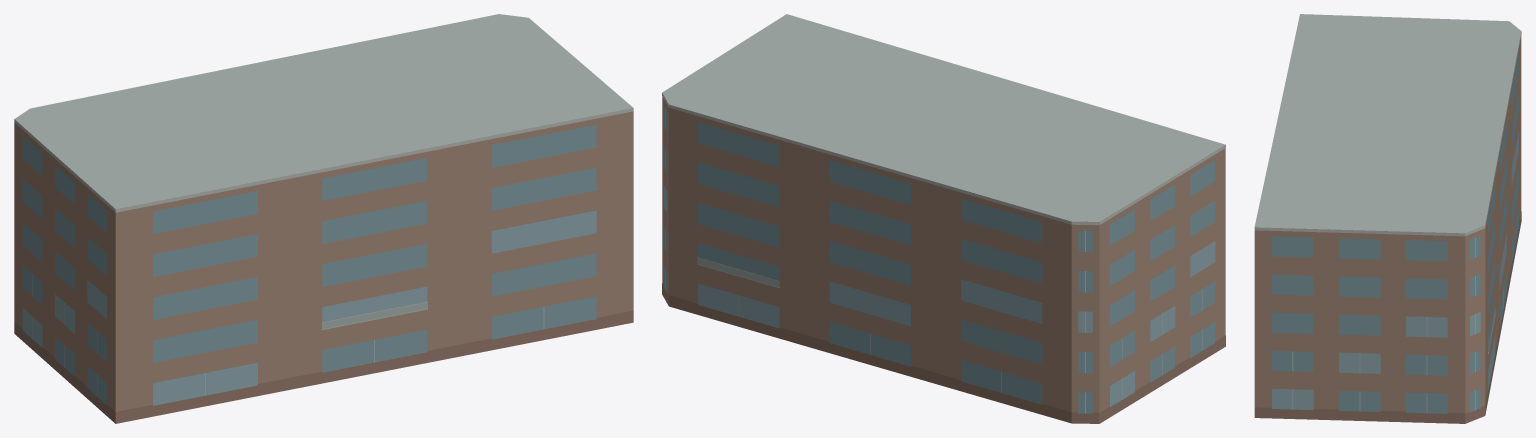
Rendered from survey-upis-32937792.glb.
3 views of the same model, side by side, from view 1: azimuth 30°, elevation 25°; view 2: azimuth 150°, elevation 25°; view 3: azimuth 270°, elevation 25° (orthographic). The views are drawn at different scales.
Parts seen in each view (by area): view 1: survey-upis-32937792.tmp; view 2: survey-upis-32937792.tmp; view 3: survey-upis-32937792.tmp.
Part boxes in pixels (bbox=[...]): survey-upis-32937792.tmp: bbox=[14, 14, 633, 423]; survey-upis-32937792.tmp: bbox=[662, 14, 1225, 423]; survey-upis-32937792.tmp: bbox=[1254, 14, 1521, 423].
Size of the model in its own units: 37.64 by 15.25 by 19.37.
